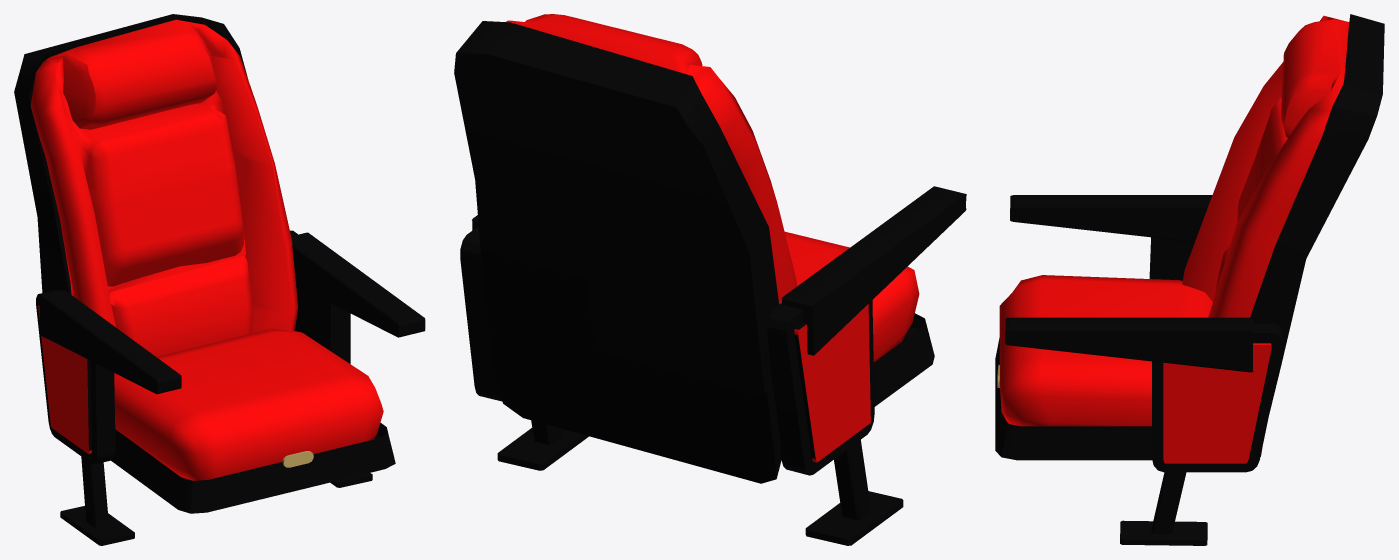
File: theater_chair.fbx
3 renders of one model, left to right at view 1: azimuth 30°, elevation 25°; view 2: azimuth 150°, elevation 25°; view 3: azimuth 270°, elevation 25°, orthographic. The views are drawn at different scales.
Parts seen in each view (by area): view 1: Cushion1, Cushion, pCube1, Support1, pCube2, SupportHandle1, SupportHandle, Support, pCube8, pCube9; view 2: pCube2, Support1, SupportHandle1, Cushion1, Cushion, Support, pCube1, pCube9, pCube8, pCube4; view 3: Cushion1, Cushion, Support, pCube2, SupportHandle, SupportHandle1, pCube1, pCube4, Support1, pCube3.
Part boxes in pixels (box(x1,y1,x2,y2)): Cushion1: box(30, 19, 297, 373); Cushion: box(114, 329, 383, 480); pCube1: box(111, 422, 395, 513); Support1: box(36, 290, 115, 464); pCube2: box(14, 14, 247, 294); SupportHandle1: box(39, 289, 181, 394); SupportHandle: box(291, 232, 425, 337); Support: box(290, 230, 350, 363); pCube8: box(81, 456, 108, 527); pCube9: box(60, 506, 134, 545); pCube2: box(454, 21, 781, 483); Support1: box(767, 300, 874, 475); SupportHandle1: box(781, 186, 966, 355); Cushion1: box(506, 14, 797, 304); Cushion: box(784, 231, 919, 362); Support: box(460, 226, 502, 401); pCube1: box(873, 313, 934, 406); pCube9: box(805, 491, 903, 545); pCube8: box(834, 440, 871, 520); pCube4: box(497, 428, 588, 470); Cushion1: box(1182, 15, 1349, 317); Cushion: box(999, 275, 1212, 426); Support: box(1152, 323, 1282, 472); pCube2: box(1250, 14, 1384, 456); SupportHandle: box(1005, 317, 1253, 372); SupportHandle1: box(1010, 195, 1212, 241); pCube1: box(995, 338, 1152, 460); pCube4: box(1120, 520, 1207, 545); Support1: box(1149, 211, 1205, 280); pCube3: box(1151, 472, 1186, 534).
Bounding box in the file's own units: 29.23 × 41.52 × 34.35.
